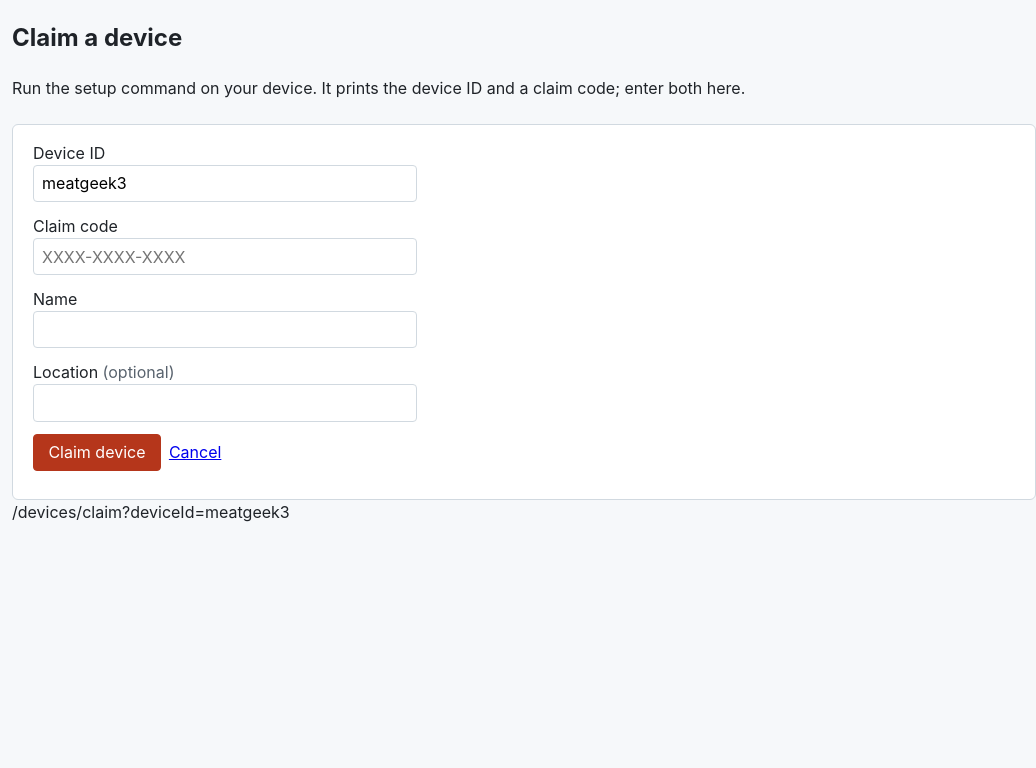
Test: the claim page › on 409 says so, keeps the form and its request id
Type "7K3M-9QXR-2HTV" into the field labelled "Claim code" at (225, 257), box [33,238,417,275]
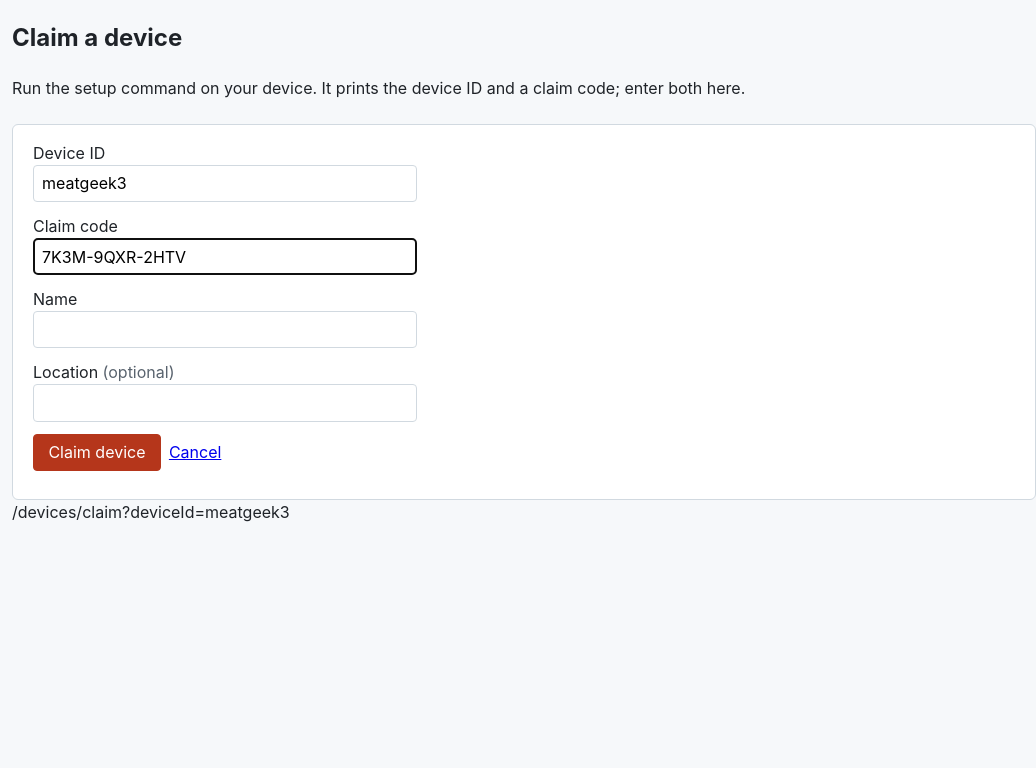
Type "Box" into the field labelled "Name" at (225, 330), box [33,311,417,348]
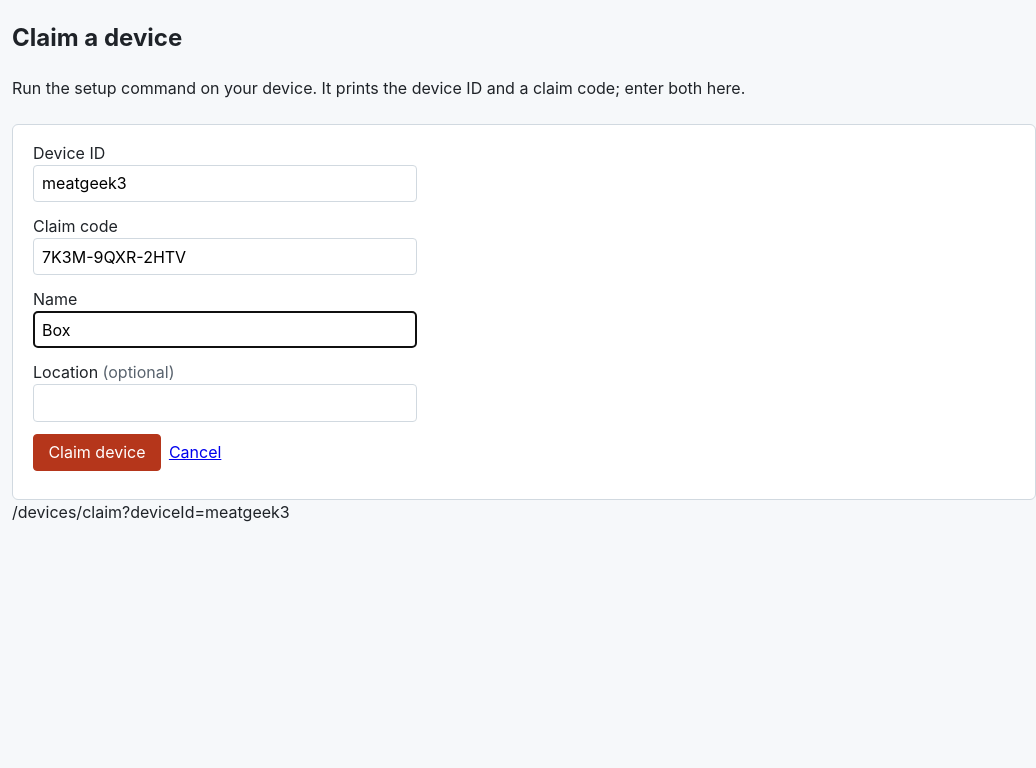
Click the button "Claim device" at (97, 452), box [33,434,161,471]
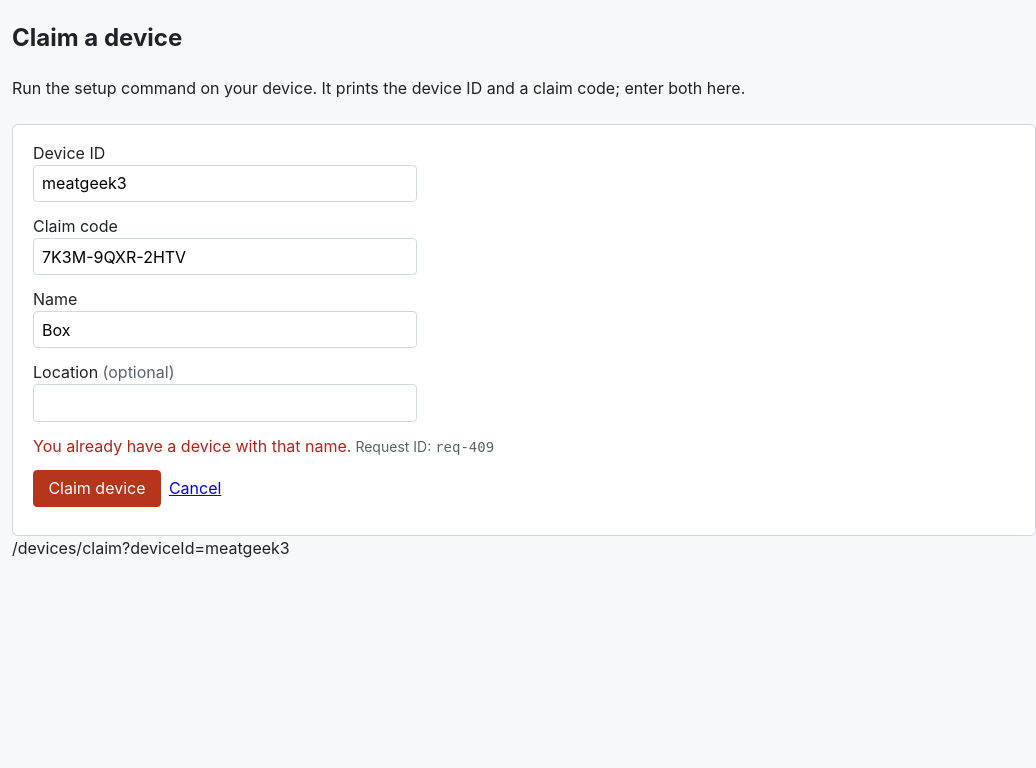
Expected: the text with test id "location" reads "/devices/claim?deviceId=meatgeek3", [12,538,290,558]
Expected: the message shows "You already have a device with that name.", [33,436,352,456]
Expected: the message shows "req-409", [435,439,494,455]
